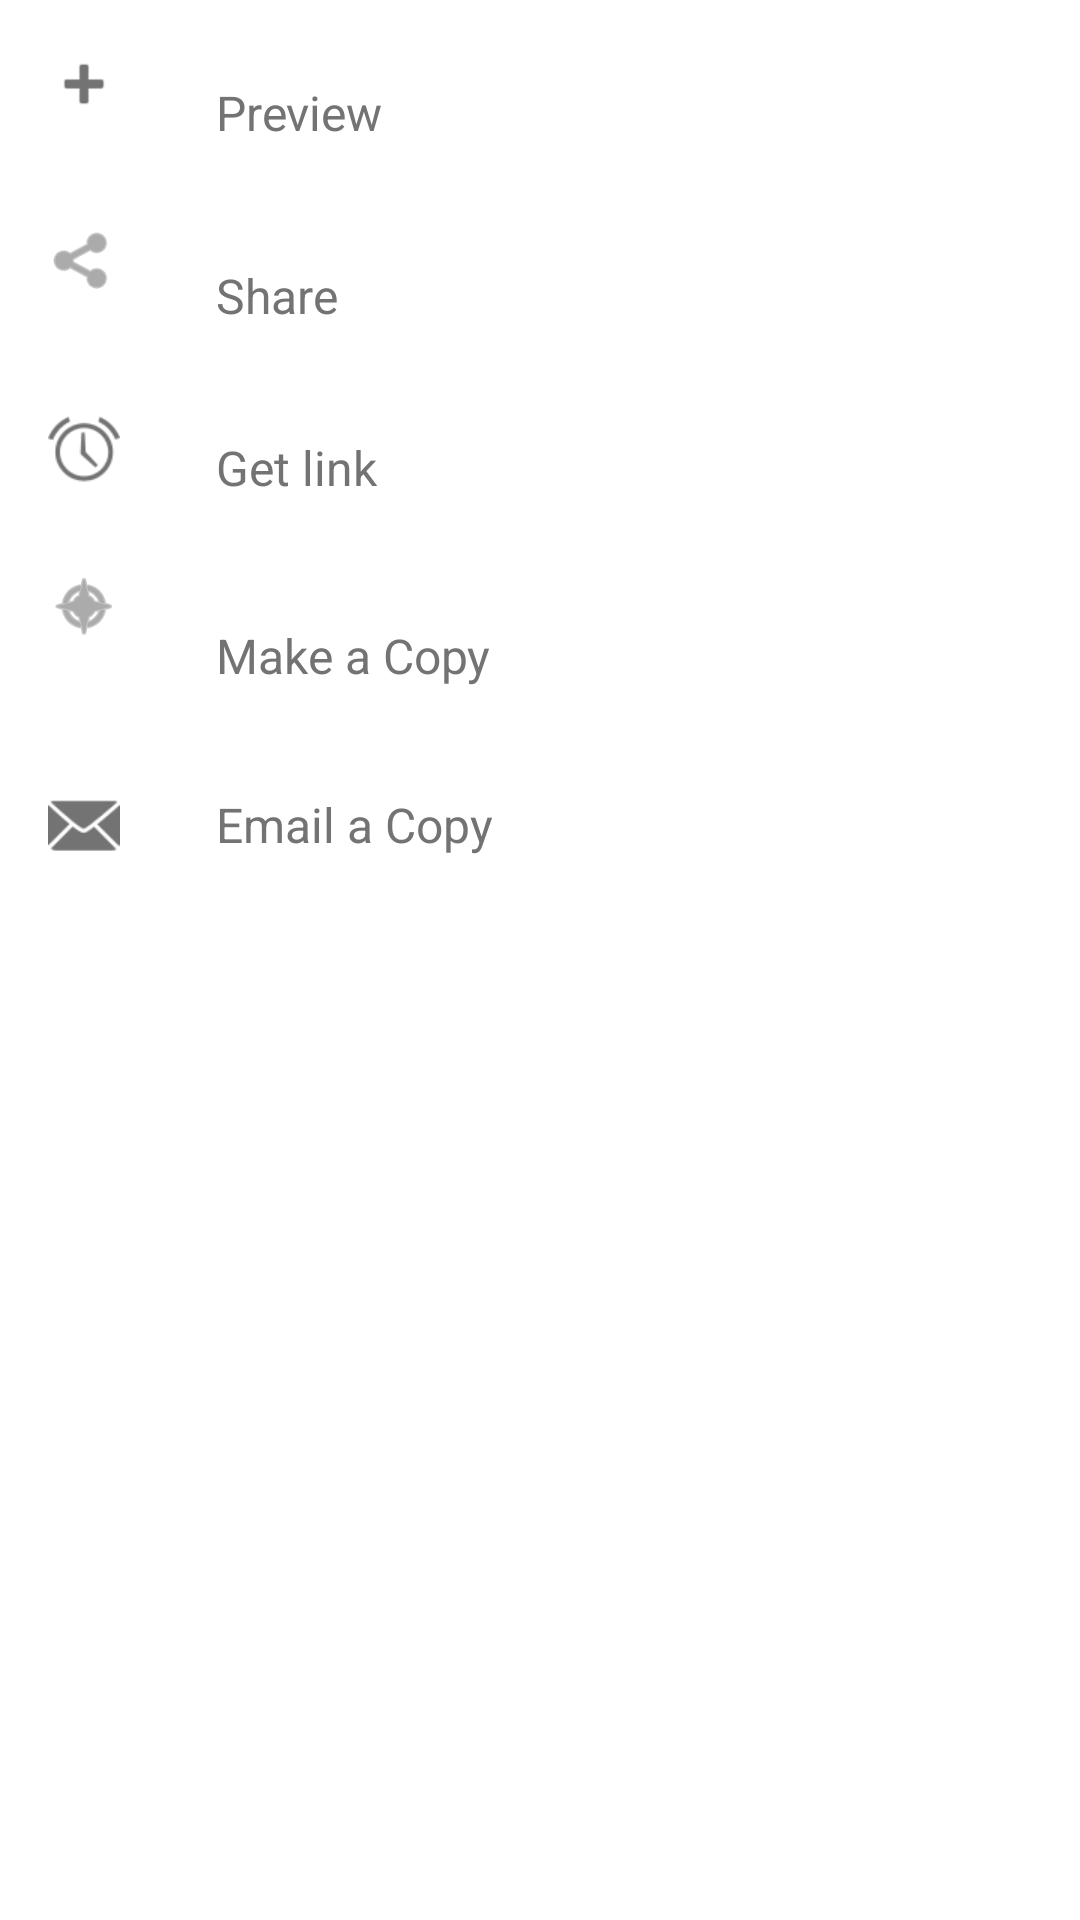

Named icons in this screenshot (1080 × 1920) and their bounding boxes, bbox(x1, y1, x2, y2):
add: bbox(64, 64, 104, 104)
compass: bbox(55, 578, 112, 635)
lock idle alarm: bbox(48, 417, 120, 482)
